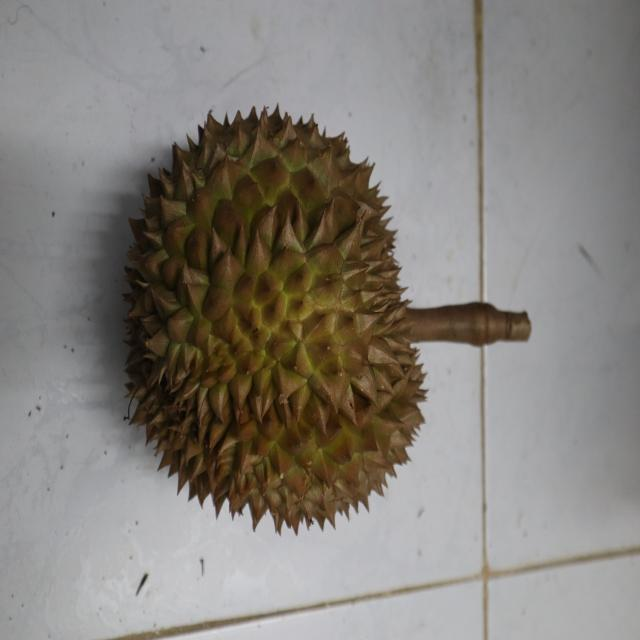mature: (123, 101, 428, 530)
